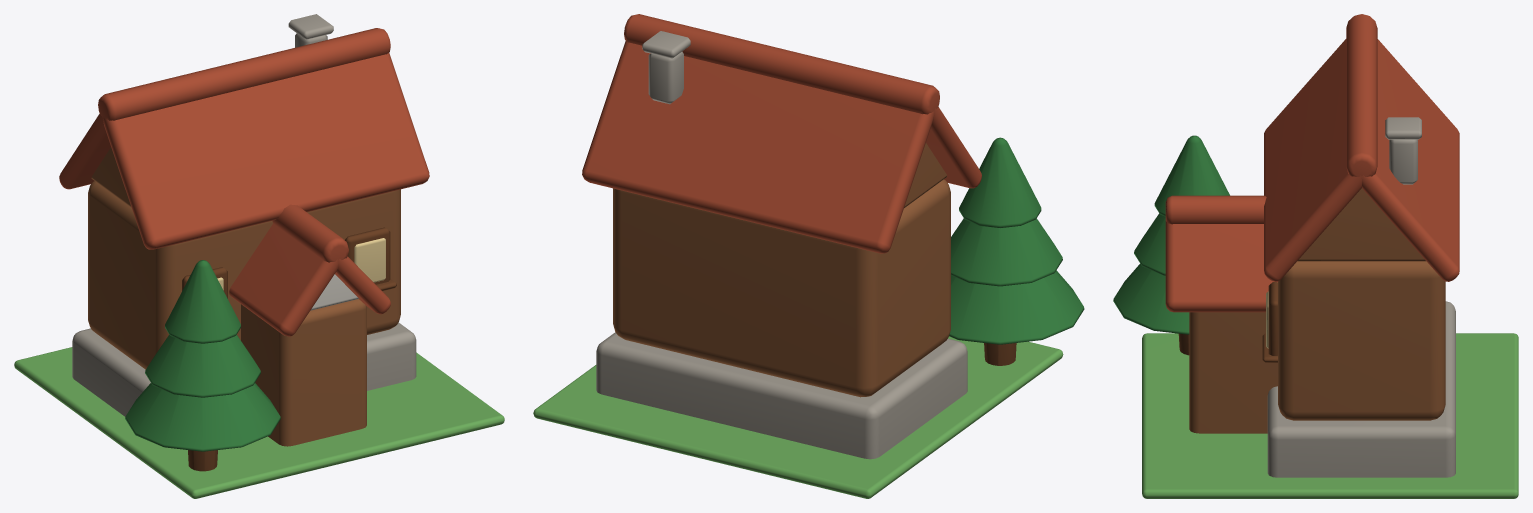
3 views of the same model, side by side, from view 1: azimuth 30°, elevation 25°; view 2: azimuth 150°, elevation 25°; view 3: azimuth 270°, elevation 25° (orthographic). The views are drawn at different scales.
Parts seen in each view (by area): view 1: Cube; view 2: Cube; view 3: Cube.
Part boxes in pixels (x1,y1,x2,y2): Cube: (14, 14, 504, 498); Cube: (533, 14, 1084, 498); Cube: (1113, 14, 1518, 498).
Bounding box in the file's own units: 0.7954 × 0.72 × 0.7754.
